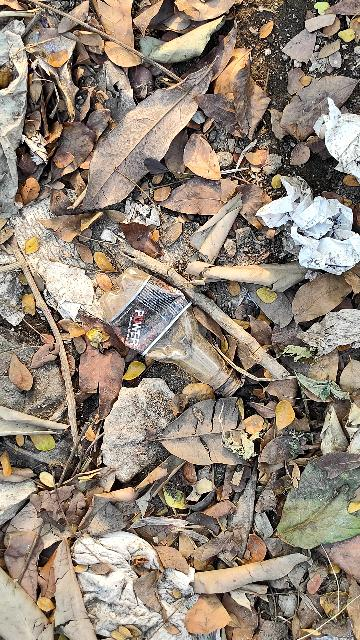bottle: (79, 253, 263, 407)
